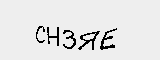Е: (99, 27, 118, 51)
З: (59, 29, 78, 51)
Н: (46, 25, 60, 47)
С: (32, 23, 49, 44)
Я: (77, 30, 96, 53)
